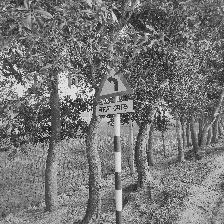Right-turn: (94, 69, 135, 120)
